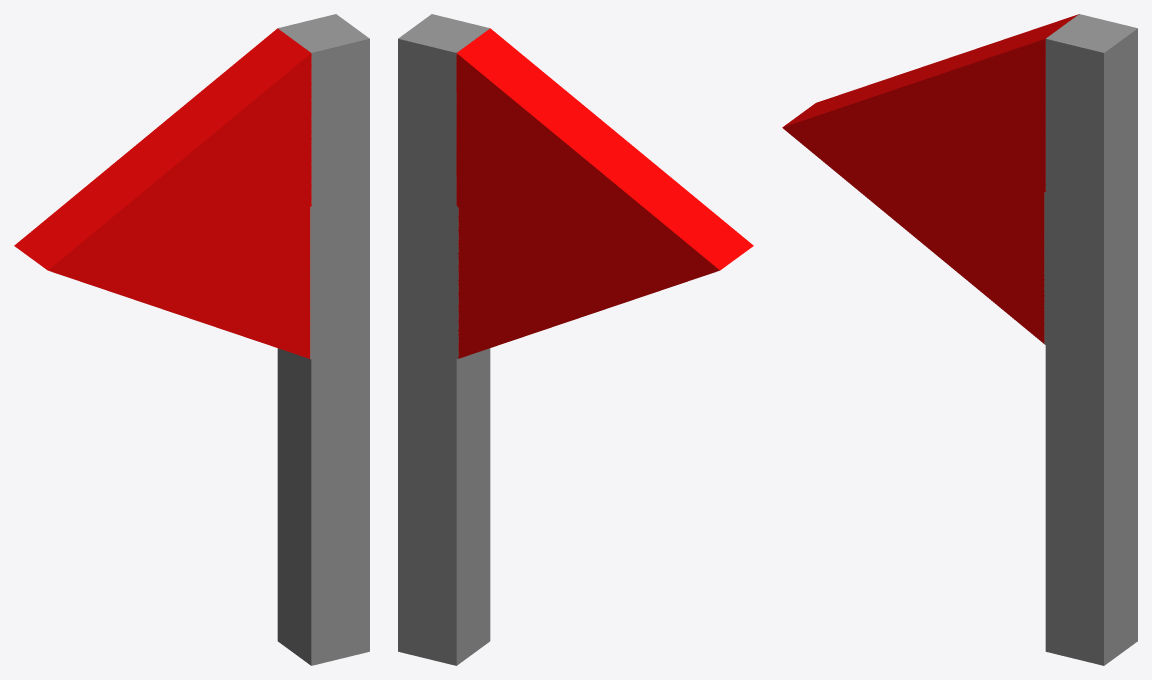
File: goal.obj
3 renders of one model, left to right at view 1: azimuth 30°, elevation 25°; view 2: azimuth 150°, elevation 25°; view 3: azimuth 330°, elevation 25°, orthographic.
Parts seen in each view (by area): view 1: Cube; view 2: Cube; view 3: Cube.
Boxes of the visible parts, bbox=[...] form: Cube: bbox=[14, 14, 369, 665]; Cube: bbox=[398, 14, 753, 665]; Cube: bbox=[782, 14, 1137, 665].
Size of the model in its own units: 1.1 by 2 by 0.2.
Materials: 1 (1 with a texture image).
